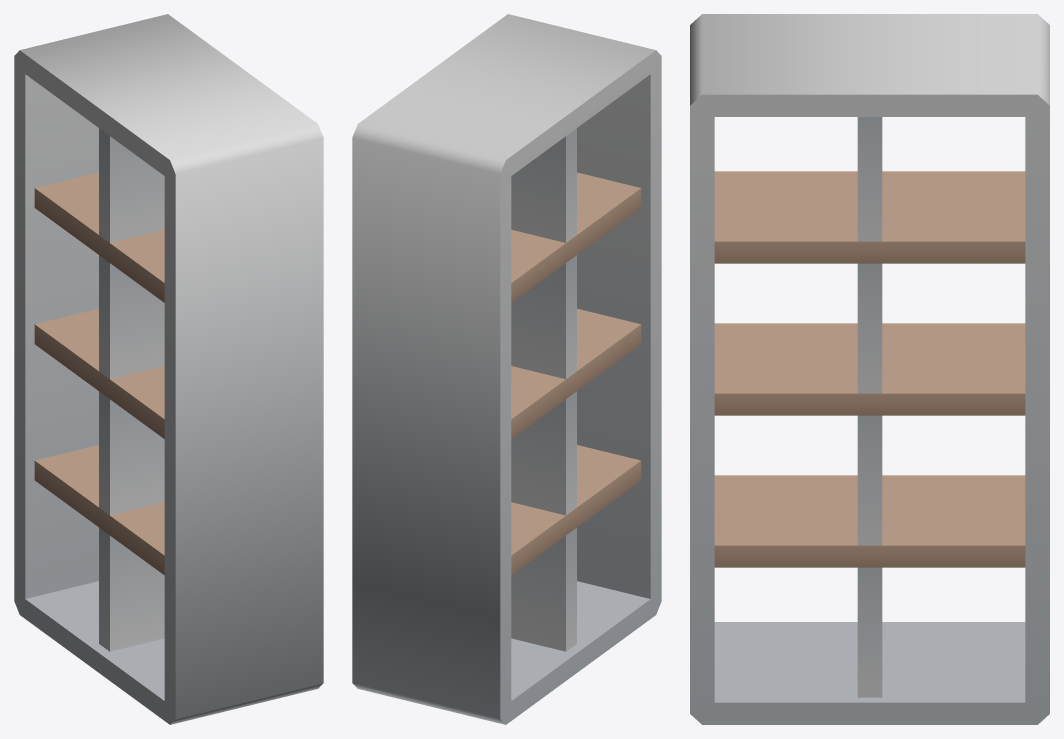
The model's file is cabinet-squares-medium.glb.
The picture shows the model from 3 angles, left to right: view 1: azimuth 30°, elevation 25°; view 2: azimuth 150°, elevation 25°; view 3: azimuth 270°, elevation 25°; orthographic projection. The views are drawn at different scales.
Visible parts, largest first — view 1: cabinet-squares-medium; view 2: cabinet-squares-medium; view 3: cabinet-squares-medium.
Part boxes in pixels (<box>): cabinet-squares-medium: <box>14,14,323,724</box>; cabinet-squares-medium: <box>352,14,661,724</box>; cabinet-squares-medium: <box>690,14,1049,724</box>.
Bounding box in the file's own units: 0.39 × 1.42 × 0.735.
